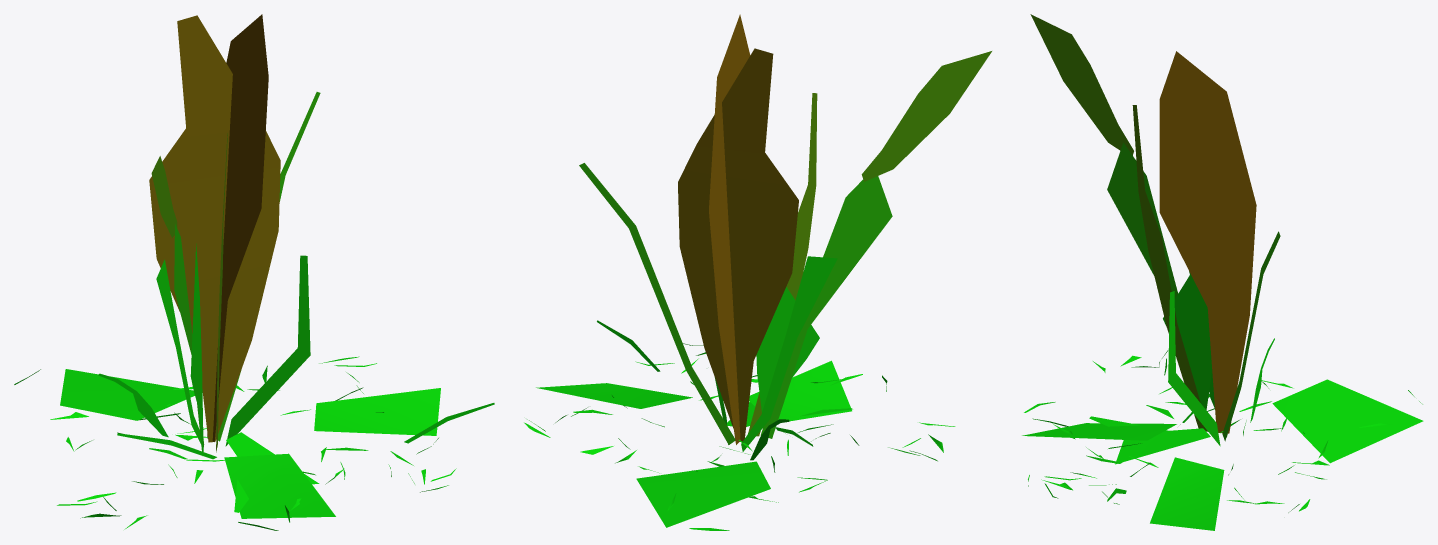
The model's file is Dead Shrubs_LOD2_Var11_vdknafgha.fbx.
The picture shows the model from 3 angles, left to right: view 1: azimuth 30°, elevation 25°; view 2: azimuth 150°, elevation 25°; view 3: azimuth 270°, elevation 25°; orthographic projection. The views are drawn at different scales.
Parts seen in each view (by area): view 1: _e40z_Var11_LOD2; view 2: _e40z_Var11_LOD2; view 3: _e40z_Var11_LOD2.
Boxes of the visible parts, box(x1,y1,x2,y2) form: _e40z_Var11_LOD2: box(14, 14, 494, 530); _e40z_Var11_LOD2: box(524, 14, 991, 530); _e40z_Var11_LOD2: box(1022, 14, 1423, 530).
Bounding box in the file's own units: 26.35 × 27.6 × 24.98.
